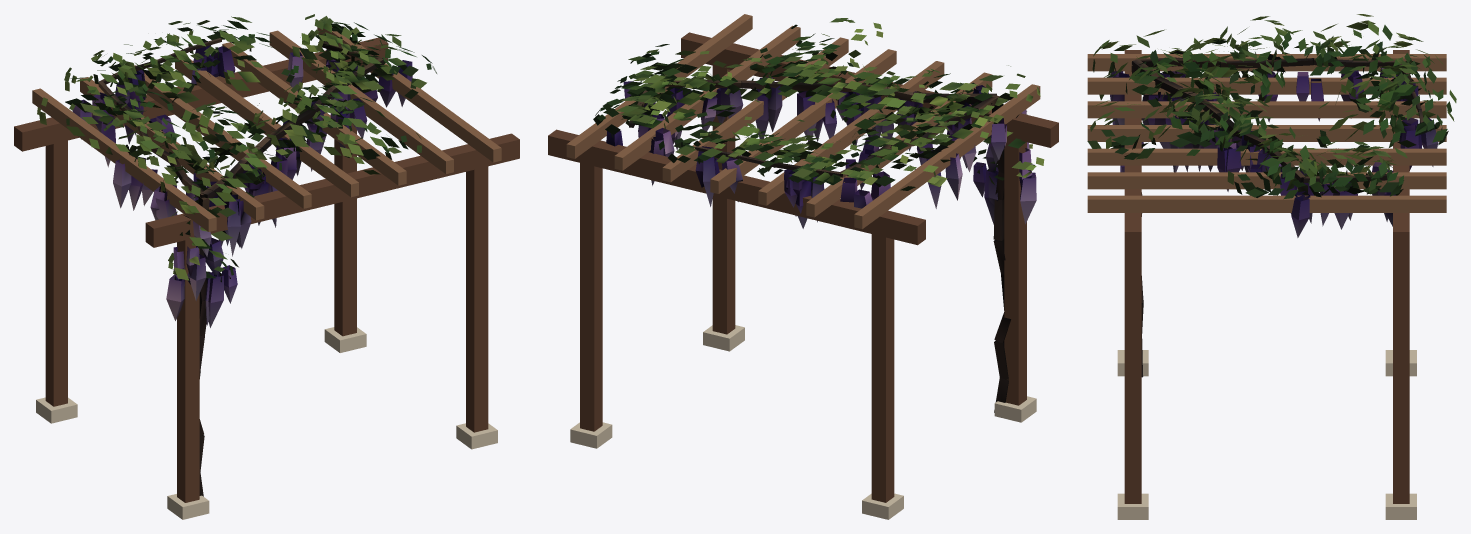
The model's file is glicinia_pergola.glb.
The picture shows the model from 3 angles, left to right: view 1: azimuth 30°, elevation 25°; view 2: azimuth 150°, elevation 25°; view 3: azimuth 270°, elevation 25°; orthographic projection.
Visible parts, largest first — view 1: glicinia_pergola_fijo, glicinia_pergola_vegetacion, glicinia_pergola_piezas; view 2: glicinia_pergola_fijo, glicinia_pergola_vegetacion, glicinia_pergola_piezas; view 3: glicinia_pergola_fijo, glicinia_pergola_vegetacion, glicinia_pergola_piezas.
Part boxes in pixels (x1=…): glicinia_pergola_fijo: x1=14, y1=20, x2=519, y2=519; glicinia_pergola_vegetacion: x1=37, y1=14, x2=436, y2=327; glicinia_pergola_piezas: x1=98, y1=38, x2=383, y2=496; glicinia_pergola_fijo: x1=548, y1=14, x2=1058, y2=519; glicinia_pergola_vegetacion: x1=593, y1=18, x2=1044, y2=228; glicinia_pergola_piezas: x1=629, y1=80, x2=1010, y2=412; glicinia_pergola_fijo: x1=1087, y1=50, x2=1446, y2=519; glicinia_pergola_vegetacion: x1=1087, y1=14, x2=1456, y2=237; glicinia_pergola_piezas: x1=1131, y1=57, x2=1423, y2=377.
Bounding box in the file's own units: 3.6 × 3.28 × 3.08.
